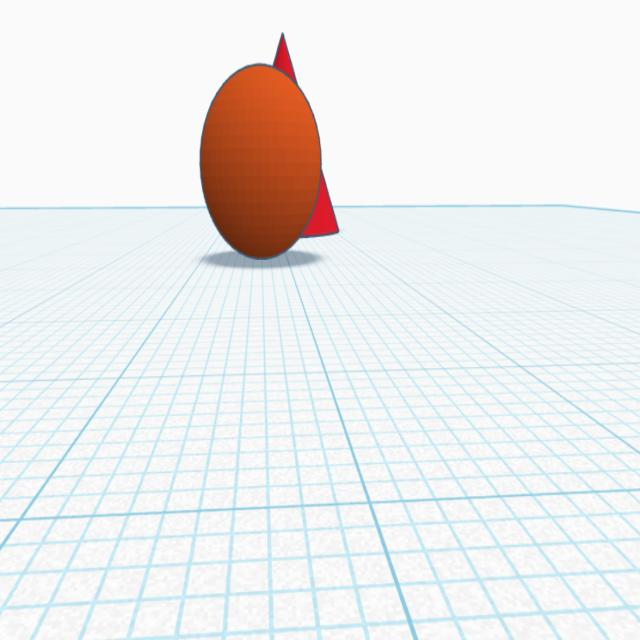sphere: (196, 58, 324, 267)
